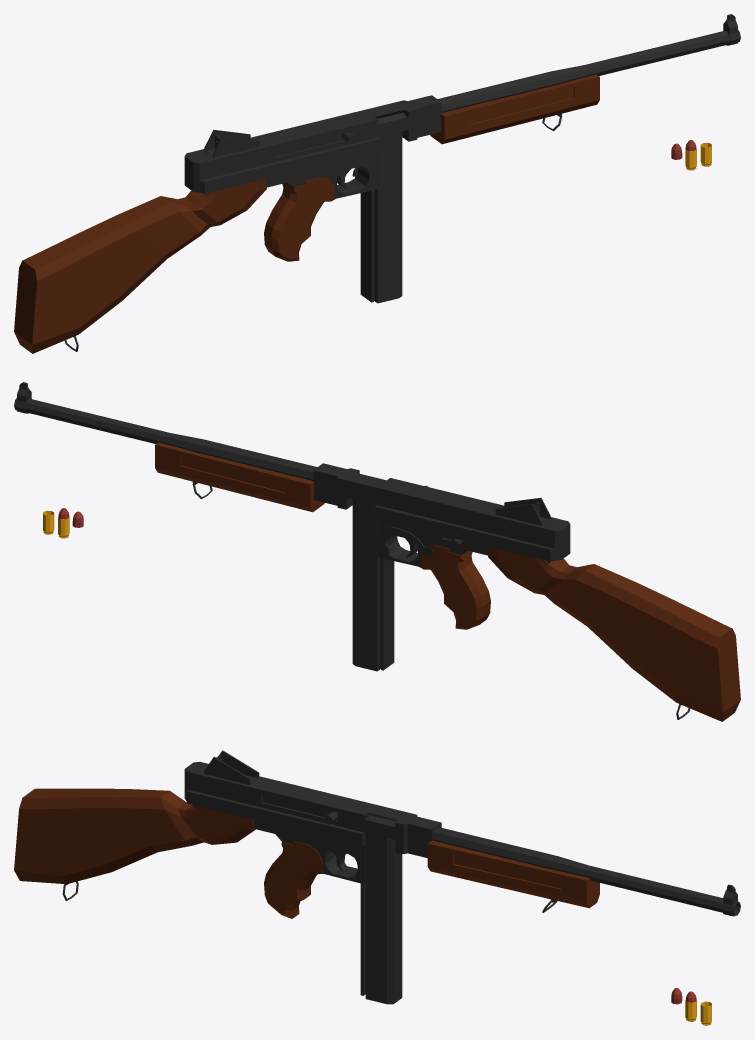
Rendered from ThompsonLP.fbx.
3 views of the same model, one above another, from view 1: azimuth 30°, elevation 25°; view 2: azimuth 150°, elevation 25°; view 3: azimuth 330°, elevation 25° (orthographic).
Visible parts, largest first — view 1: Thompson M1, Thompson M1 Maganize; view 2: Thompson M1, Thompson M1 Maganize; view 3: Thompson M1, Thompson M1 Maganize.
Part boxes in pixels (x1=…): Thompson M1: x1=14, y1=14, x2=740, y2=353; Thompson M1 Maganize: x1=360, y1=131, x2=402, y2=303; Thompson M1: x1=14, y1=382, x2=740, y2=721; Thompson M1 Maganize: x1=352, y1=499, x2=394, y2=671; Thompson M1: x1=14, y1=750, x2=740, y2=918; Thompson M1 Maganize: x1=360, y1=833, x2=402, y2=1004.
Bounding box in the file's own units: 85.55 × 23.27 × 4.64.
